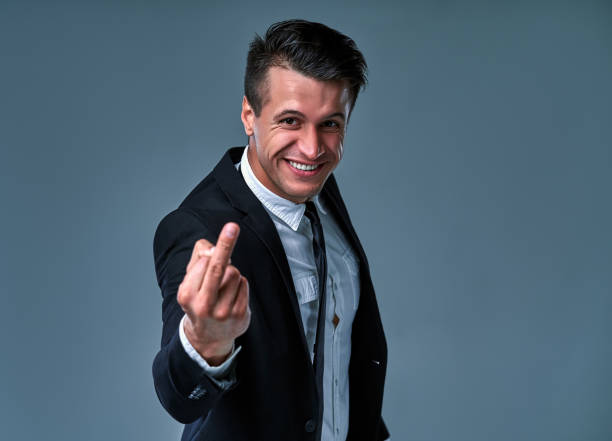insulting_gesture: (178, 222, 252, 342)
